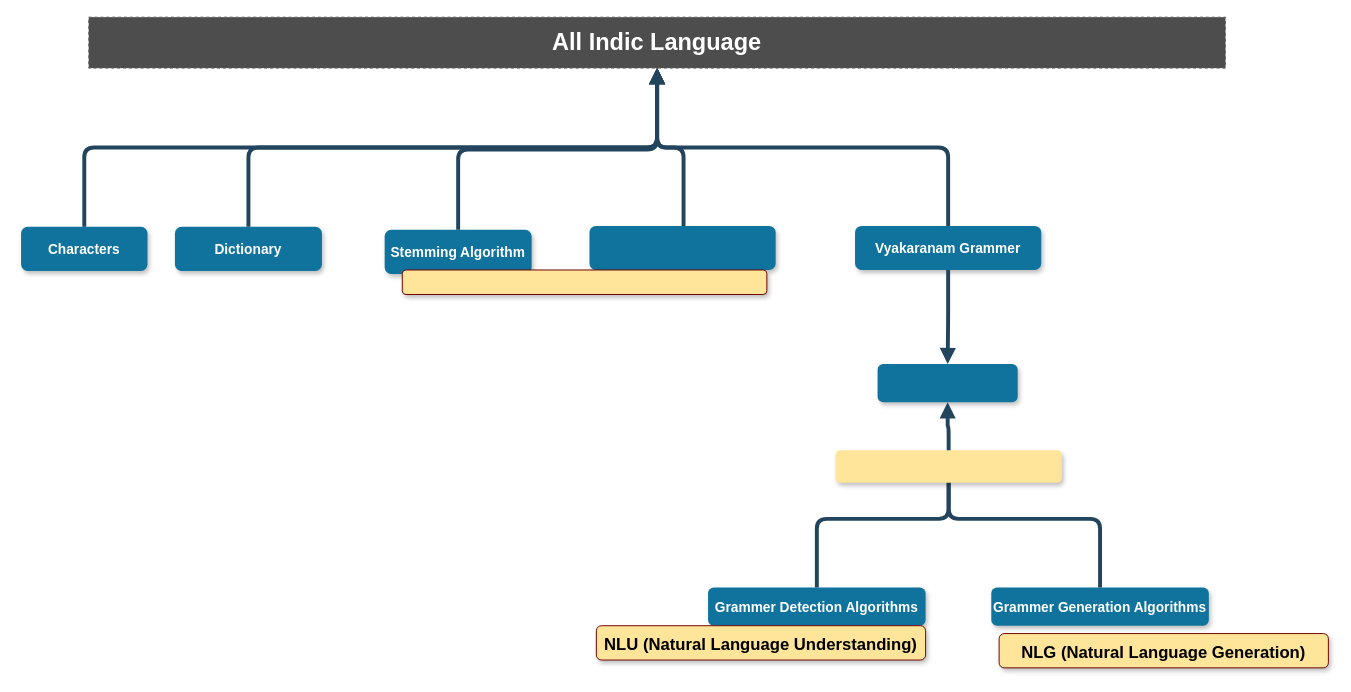
This 1351x692 diagram has some shape labels left out. The shapes that lost their labels are listed below. From the top down, each one's centre as x and y in pixels, then its label:
the point at 683,248: Lemmatization Algorithm
the point at 585,283: Stemming & Lemmatization Algorithms
the point at 948,384: Rules & Heuristics
the point at 949,467: NER (Name Entity Recognistion)
